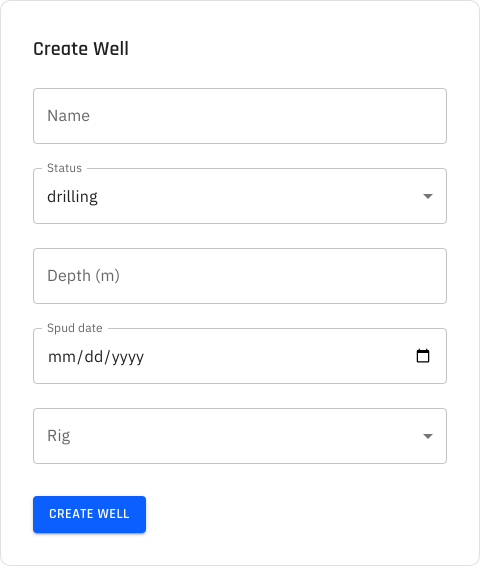
Test: WellForm › lists rigs fetched from the API in the rig select
Click the dropdown named "Rig" at (240, 436), box [33,408,447,464]
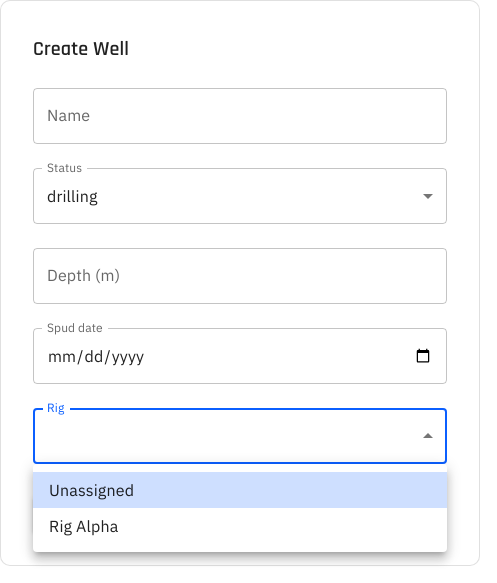
Check: the option "Rig Alpha" is shown, box [49,516,118,536]
